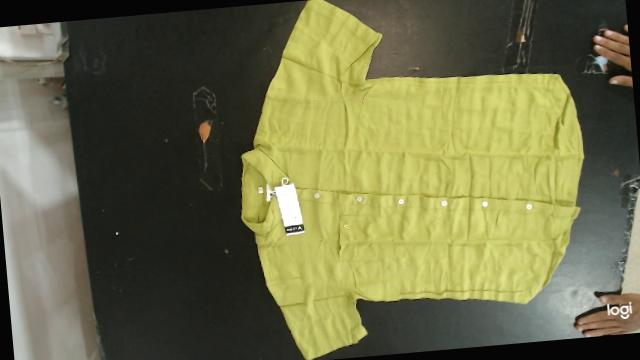new-garment: (242, 0, 583, 360)
